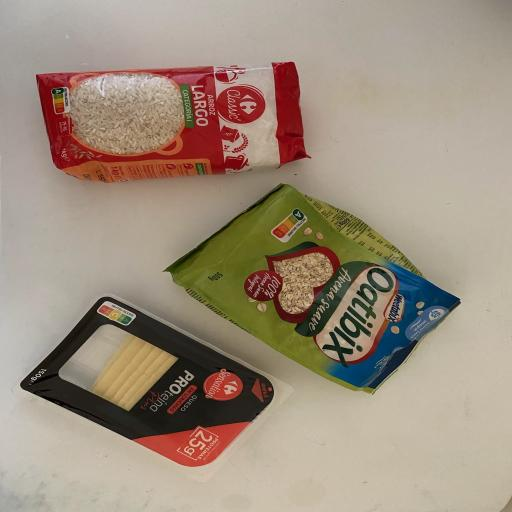cheese: (19, 293, 277, 470)
oat: (163, 181, 460, 396)
rice: (32, 59, 316, 185)
